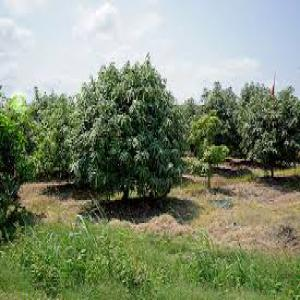Tree: (65, 54, 186, 202), (240, 84, 285, 177)
